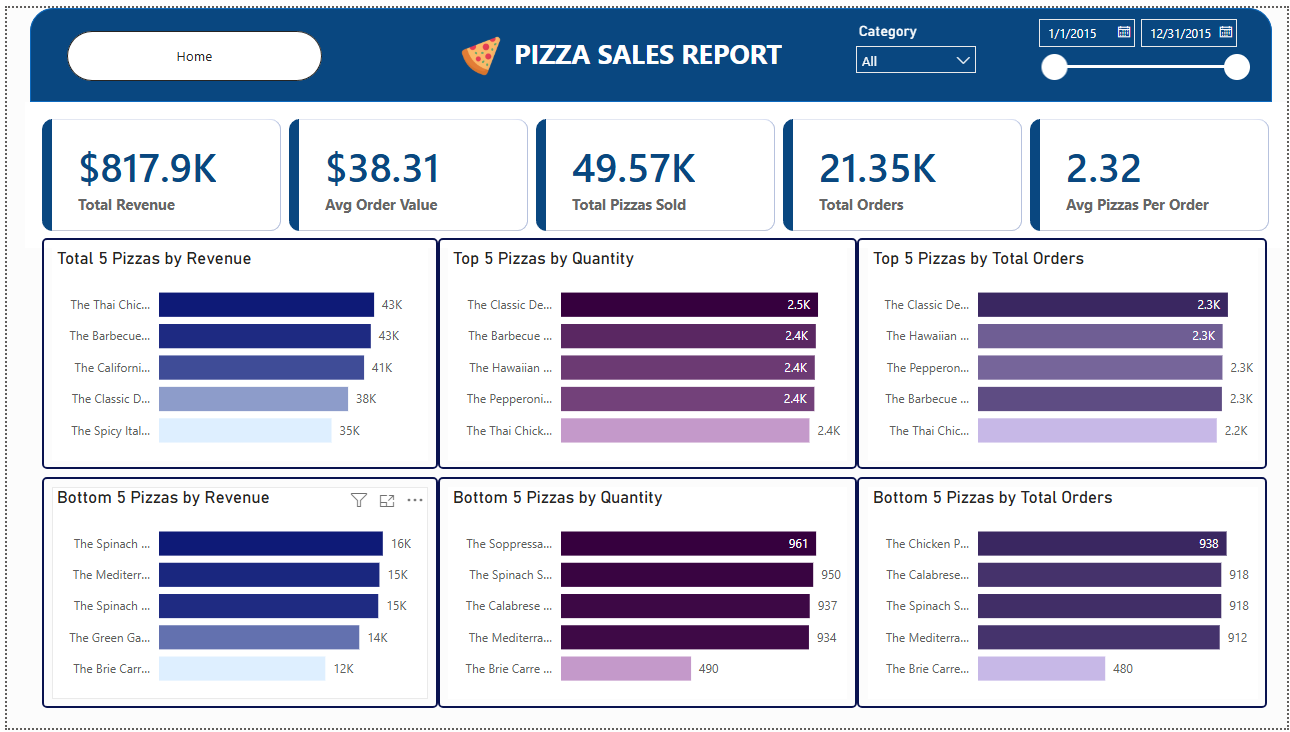

This screenshot's page, from the dashboard's own definition file:
{"tool":"powerbi","page":{"name":"Best/Worse Sellers","canvas":[1280,720],"ordinal":1},"visuals":[{"type":"shape","box":[431.2,468.8,418.8,231.2],"z":0},{"type":"shape","box":[35,468.8,396.2,231.2],"z":1000},{"type":"cardVisual","fields":{"Data":["pizza_sales.Total Revenue","pizza_sales.Avg Order Value","pizza_sales.Total Pizzas Sold","pizza_sales.Total Orders","pizza_sales.Avg Pizzas Per Order"]},"box":[17.5,93.8,1262.5,146.2],"z":2000},{"type":"shape","box":[22.5,0,1242.5,93.8],"z":3000},{"type":"textbox","box":[473.2,21.8,336,52],"z":4000},{"type":"image","box":[441.2,27.5,65,40],"z":5000},{"type":"shape","box":[850,468.8,410,231.2],"z":6000},{"type":"slicer","fields":{"Values":["pizza_sales.order_date"]},"box":[1018.8,1.2,232.5,90],"z":7000},{"type":"shape","box":[35,230,396.2,231.2],"z":8000},{"type":"shape","box":[431.2,230,418.8,231.2],"z":9000},{"type":"shape","box":[850,230,410,231.2],"z":10000},{"type":"barChart","title":"Total 5 Pizzas by Revenue","fields":{"Category":["pizza_sales.pizza_name"],"Y":["pizza_sales.Total Revenue"]},"box":[45,240,376.2,212.5],"z":11000},{"type":"barChart","title":"Bottom 5 Pizzas by Revenue","fields":{"Category":["pizza_sales.pizza_name"],"Y":["pizza_sales.Total Revenue"]},"box":[45,478.8,376.2,212.5],"z":12000},{"type":"barChart","title":"Top 5 Pizzas by Quantity","fields":{"Category":["pizza_sales.pizza_name"],"Y":["pizza_sales.Total Pizzas Sold"]},"box":[441.2,240,398.8,212.5],"z":13000},{"type":"barChart","title":"Bottom 5 Pizzas by Quantity","fields":{"Category":["pizza_sales.pizza_name"],"Y":["pizza_sales.Total Pizzas Sold"]},"box":[441.2,478.8,398.8,212.5],"z":14000},{"type":"barChart","title":"Top 5 Pizzas by Total Orders","fields":{"Category":["pizza_sales.pizza_name"],"Y":["pizza_sales.Total Orders"]},"box":[861.2,240,390,212.5],"z":15000},{"type":"barChart","title":"Bottom 5 Pizzas by Total Orders","fields":{"Category":["pizza_sales.pizza_name"],"Y":["pizza_sales.Total Orders"]},"box":[861.2,478.8,390,212.5],"z":16000},{"type":"slicer","fields":{"Values":["pizza_sales.pizza_category"]},"box":[838.8,10,140,60],"z":17000},{"type":"pageNavigator","box":[60,22.5,255,50],"z":18000}]}

Visuals, with their boxes in screenshot pixels (x1, y1, x2, y2), scaled from the page's 1280x720 canvas onto the 1290x732 screenshot:
shape: <region>435, 477, 857, 712</region>
shape: <region>35, 477, 435, 712</region>
cardVisual - pizza_sales.Total Revenue x pizza_sales.Avg Order Value: <region>18, 95, 1289, 244</region>
shape: <region>23, 0, 1275, 95</region>
textbox: <region>477, 22, 816, 75</region>
image: <region>445, 28, 510, 69</region>
shape: <region>857, 477, 1270, 712</region>
slicer - pizza_sales.order_date: <region>1027, 1, 1261, 93</region>
shape: <region>35, 234, 435, 469</region>
shape: <region>435, 234, 857, 469</region>
shape: <region>857, 234, 1270, 469</region>
"Total 5 Pizzas by Revenue" barChart: <region>45, 244, 424, 460</region>
"Bottom 5 Pizzas by Revenue" barChart: <region>45, 487, 424, 703</region>
"Top 5 Pizzas by Quantity" barChart: <region>445, 244, 847, 460</region>
"Bottom 5 Pizzas by Quantity" barChart: <region>445, 487, 847, 703</region>
"Top 5 Pizzas by Total Orders" barChart: <region>868, 244, 1261, 460</region>
"Bottom 5 Pizzas by Total Orders" barChart: <region>868, 487, 1261, 703</region>
slicer - pizza_sales.pizza_category: <region>845, 10, 986, 71</region>
pageNavigator: <region>60, 23, 317, 74</region>
